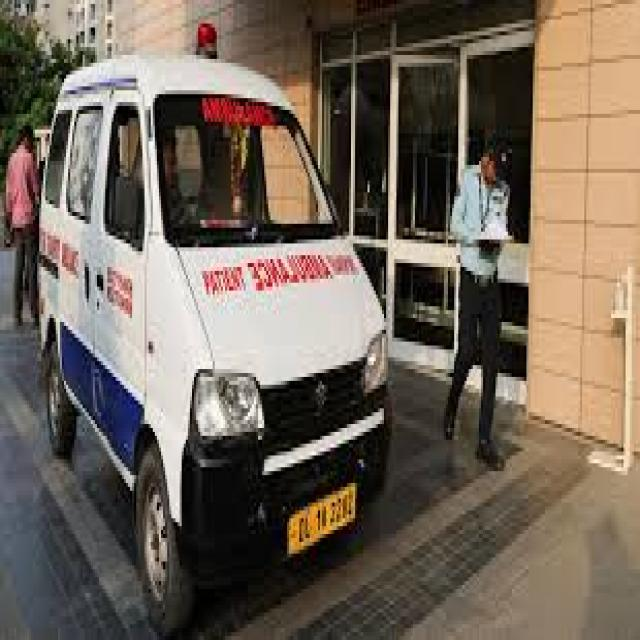ambulance: (41, 55, 388, 589)
